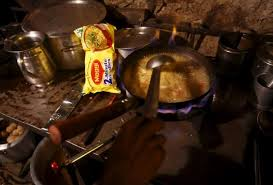maggie: (77, 24, 121, 95)
